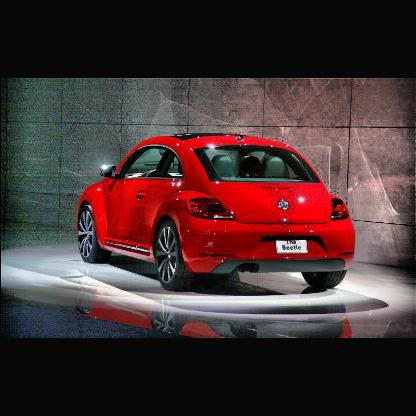Volkswagen Beetle Hatchback 2012: (75, 132, 360, 295)
